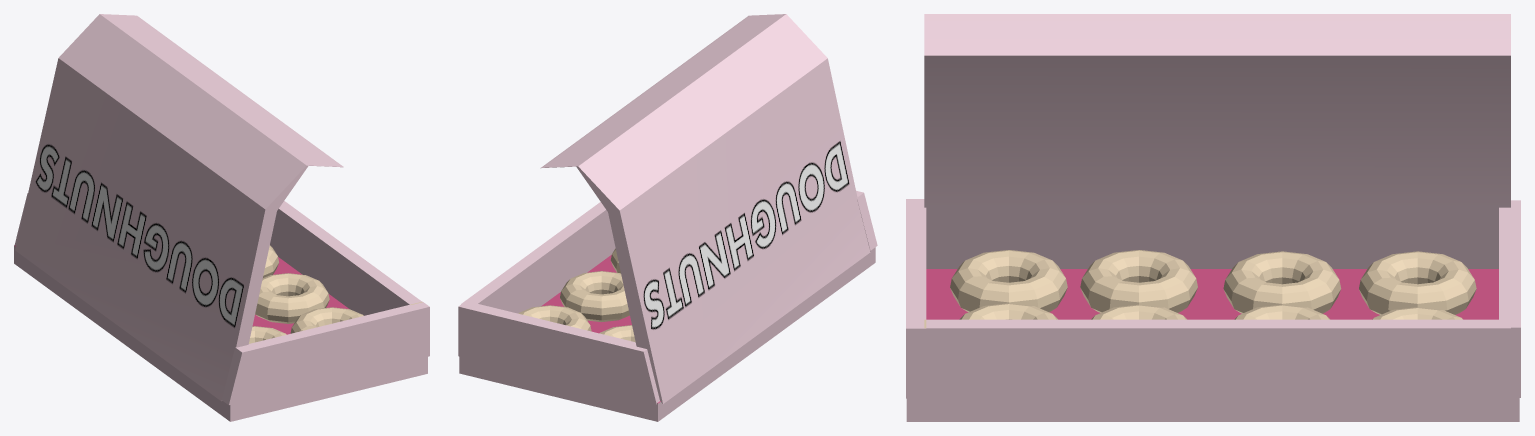
Rendered from DoughnutBox.obj.
The picture shows the model from 3 angles, left to right: view 1: azimuth 30°, elevation 25°; view 2: azimuth 150°, elevation 25°; view 3: azimuth 270°, elevation 25°; orthographic projection. The views are drawn at different scales.
Visible parts, largest first — view 1: pCube9; view 2: pCube9; view 3: pCube9.
Part boxes in pixels (x1,y1,x2,y2): pCube9: [14, 14, 429, 421]; pCube9: [458, 14, 877, 421]; pCube9: [906, 14, 1520, 421].
Size of the model in its own units: 4.26 by 4.69 by 7.96.
